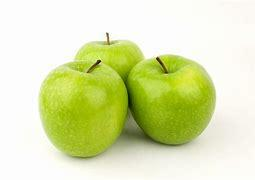apple: (25, 60, 133, 151), (130, 55, 224, 138), (83, 37, 138, 71)
